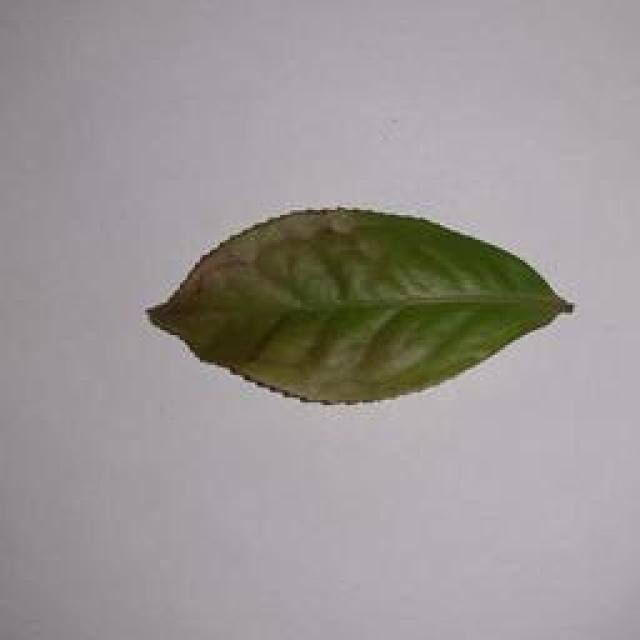Red Leaf Spot: (145, 214, 569, 412)
